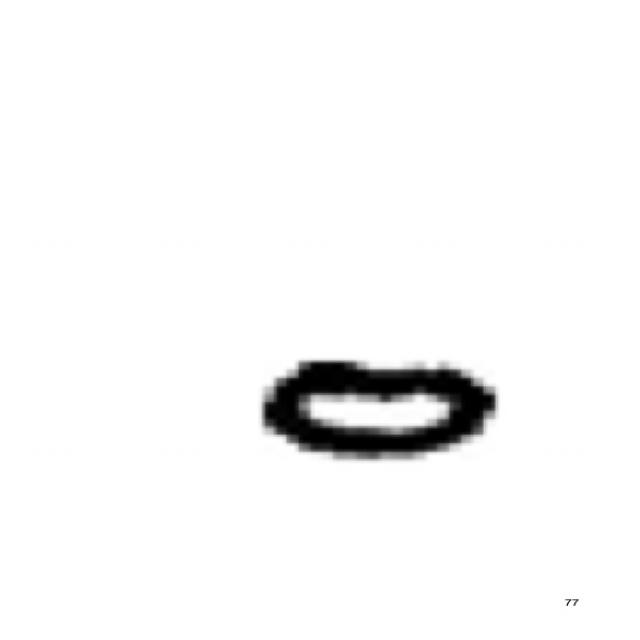5 -five-: (247, 346, 508, 468)
